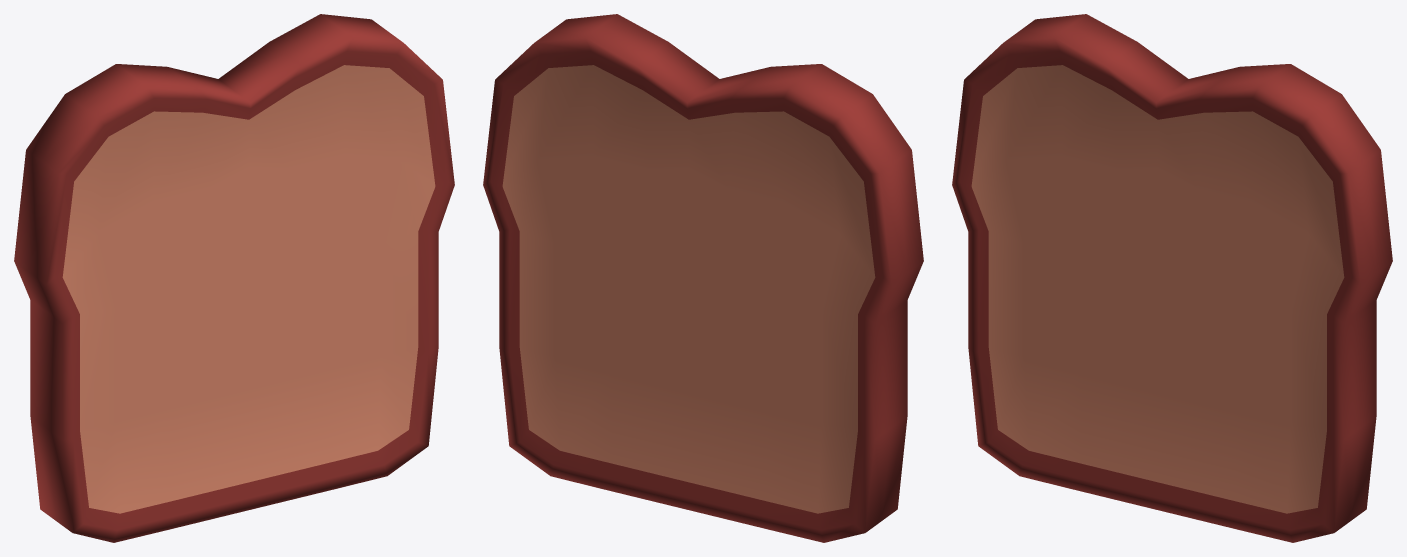
Rendered from bread.glb.
The picture shows the model from 3 angles, left to right: view 1: azimuth 30°, elevation 25°; view 2: azimuth 150°, elevation 25°; view 3: azimuth 330°, elevation 25°; orthographic projection.
Parts seen in each view (by area): view 1: Cube; view 2: Cube; view 3: Cube.
Boxes of the visible parts, <box> form: Cube: <box>14,14,454,542</box>; Cube: <box>483,14,923,542</box>; Cube: <box>952,14,1392,542</box>.
Bounding box in the file's own units: 9.96 × 10.42 × 1.37.
